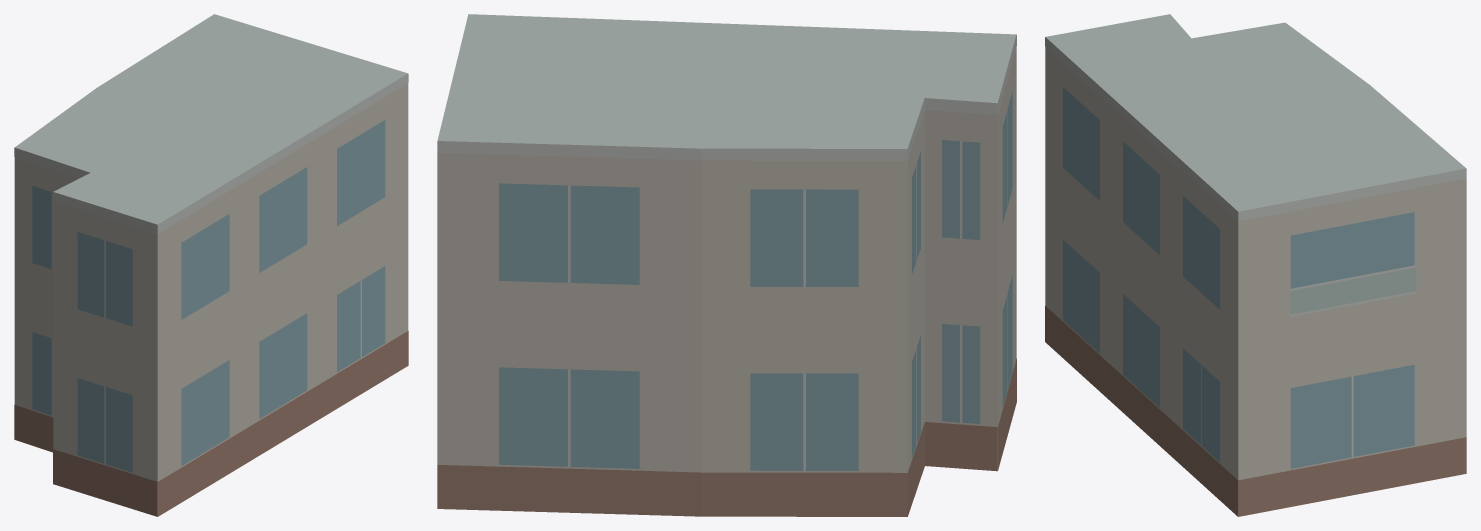
Rendered from survey-upis-32934211.glb.
3 views of the same model, side by side, from view 1: azimuth 30°, elevation 25°; view 2: azimuth 150°, elevation 25°; view 3: azimuth 270°, elevation 25° (orthographic). The views are drawn at different scales.
Visible parts, largest first — view 1: survey-upis-32934211.tmp; view 2: survey-upis-32934211.tmp; view 3: survey-upis-32934211.tmp.
Boxes of the visible parts, left/top/right/bottom form: survey-upis-32934211.tmp: left=14, top=14, right=408, bottom=516; survey-upis-32934211.tmp: left=437, top=14, right=1016, bottom=516; survey-upis-32934211.tmp: left=1045, top=14, right=1466, bottom=516.
Size of the model in its own units: 10.57 by 7.6 by 9.52.
